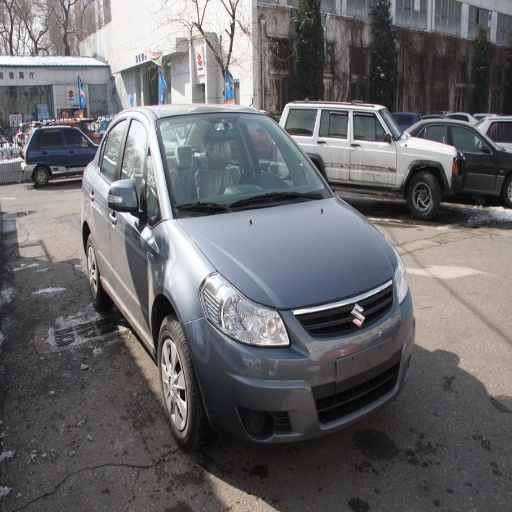front_bumper: (189, 281, 414, 444)
front_glass: (156, 113, 331, 215)
front_right_door: (114, 114, 156, 324)
front_right_light: (202, 274, 289, 345)
